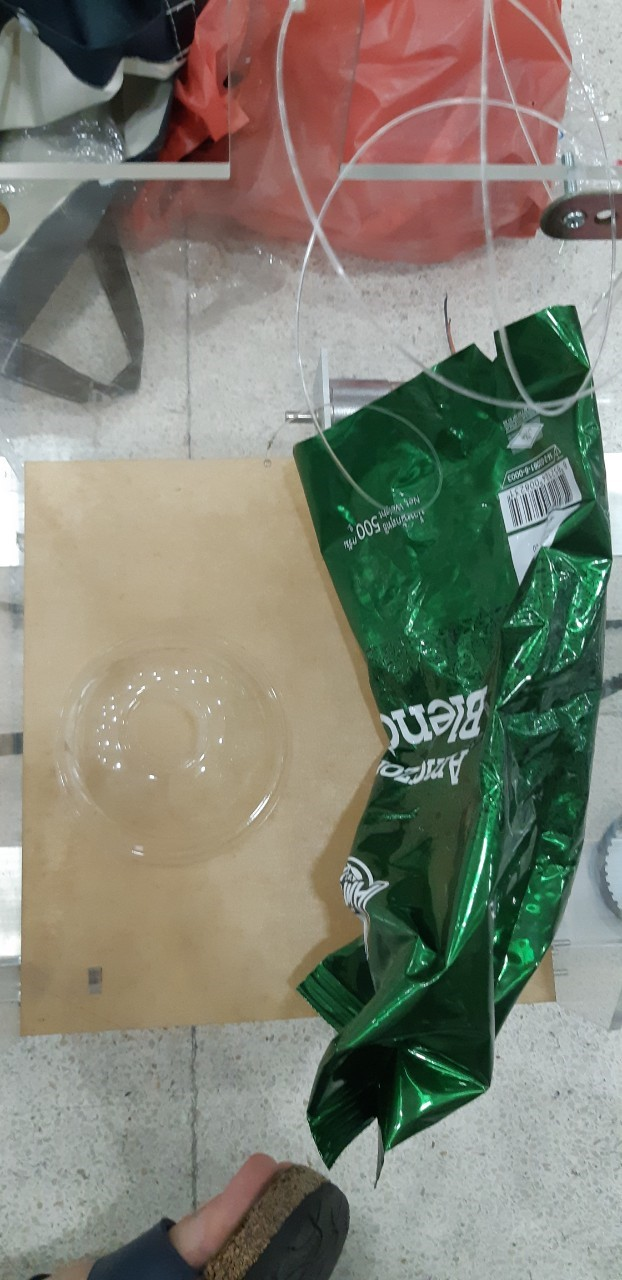Others: (286, 303, 612, 1181)
